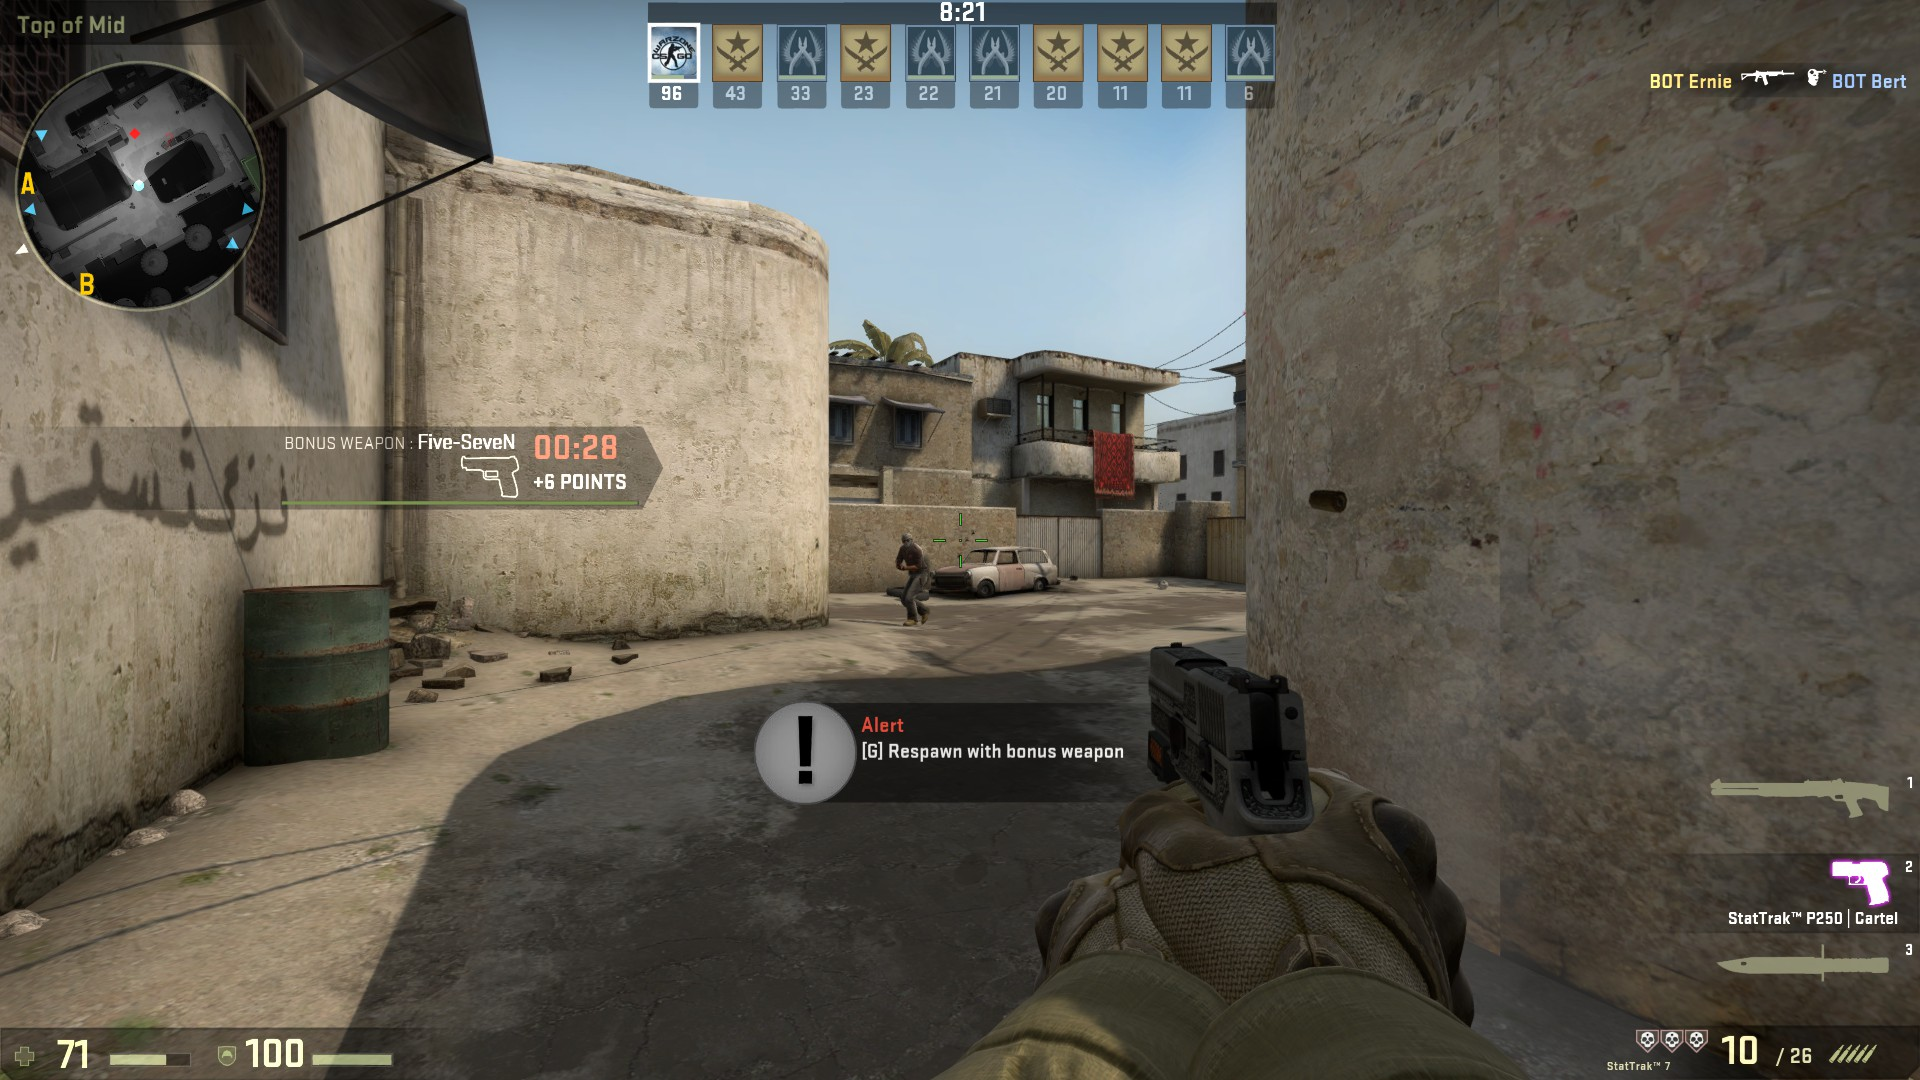t: (890, 533, 934, 628)
th: (898, 531, 915, 549)
